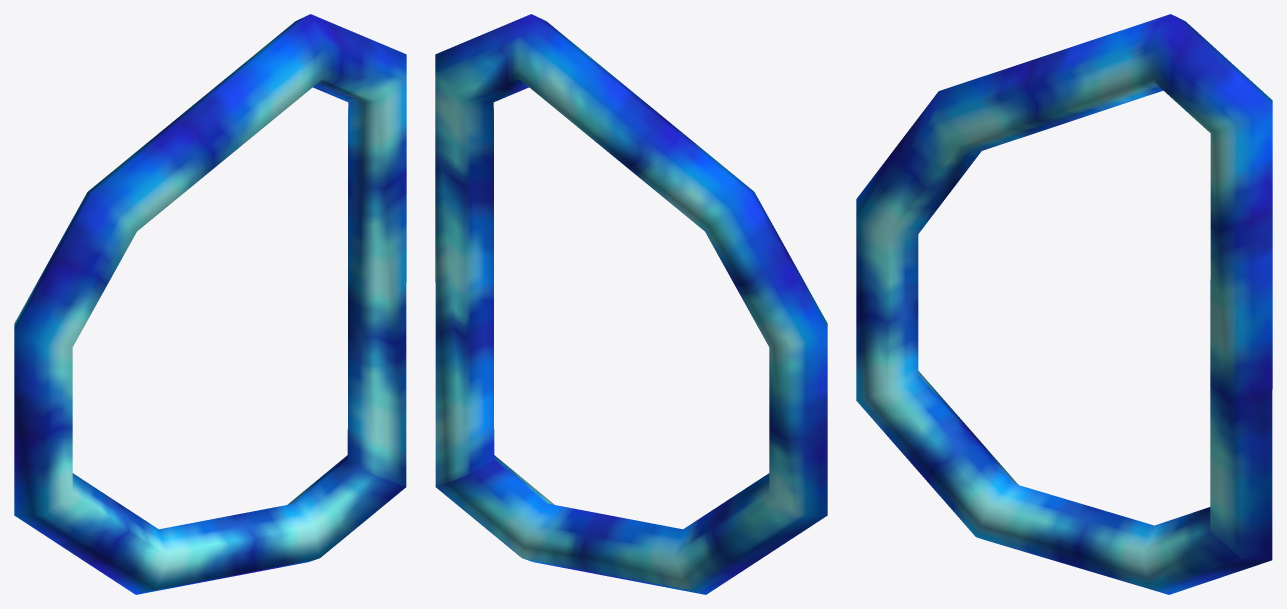
File: furni_0200162.FBX
The picture shows the model from 3 angles, left to right: view 1: azimuth 30°, elevation 25°; view 2: azimuth 150°, elevation 25°; view 3: azimuth 330°, elevation 25°; orthographic projection. The views are drawn at different scales.
Visible parts, largest first — view 1: furni_0200162; view 2: furni_0200162; view 3: furni_0200162.
Part boxes in pixels (x1,y1,x2,y2): furni_0200162: [14, 14, 406, 594]; furni_0200162: [435, 14, 827, 594]; furni_0200162: [856, 14, 1272, 594].
Bounding box in the file's own units: 40.25 × 53.68 × 5.2.
